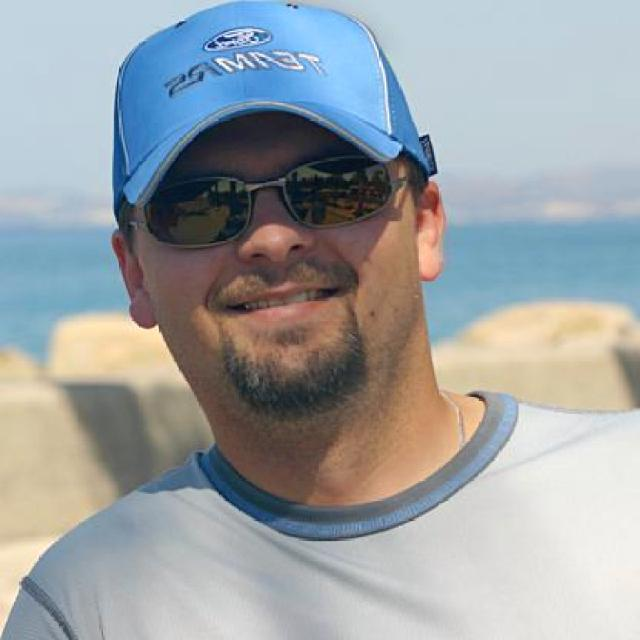face_nomask: (153, 154, 385, 358)
glasses: (119, 130, 418, 241)
head_nohelmet: (104, 5, 407, 184)
